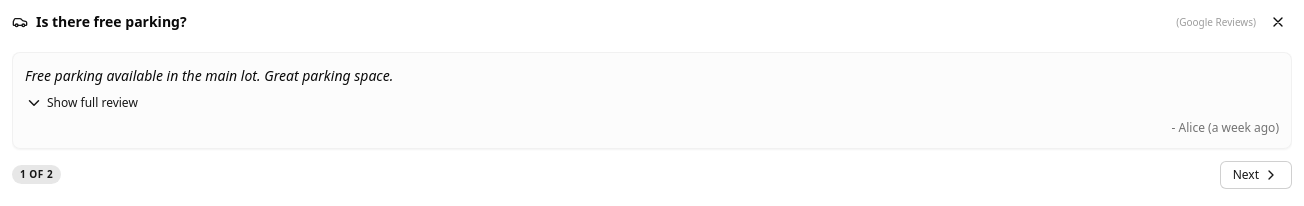
Test: WineryQnA Keyword & Boundary Matching › asserts active question transition resets review index without out-of-bounds review flashes
The width and height of the screenshot is (1304, 206).
Later steps or results of the test are not shown.
Check: the text "1 of 2" is shown, box [12, 165, 61, 184]
Click the button with test id "next-review" at (1256, 175), box [1220, 161, 1292, 189]
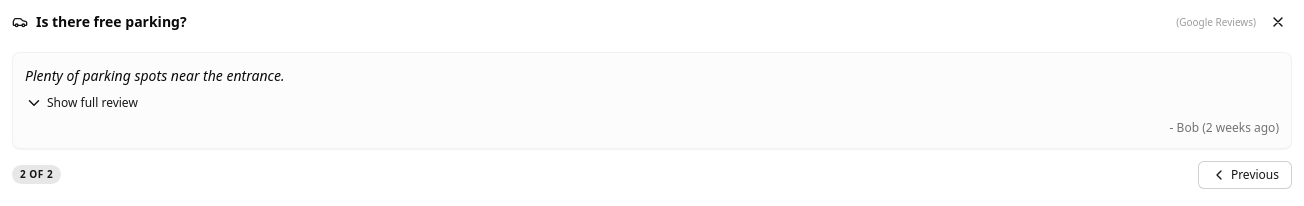
Check: the text "2 of 2" is shown, box [12, 165, 61, 184]
